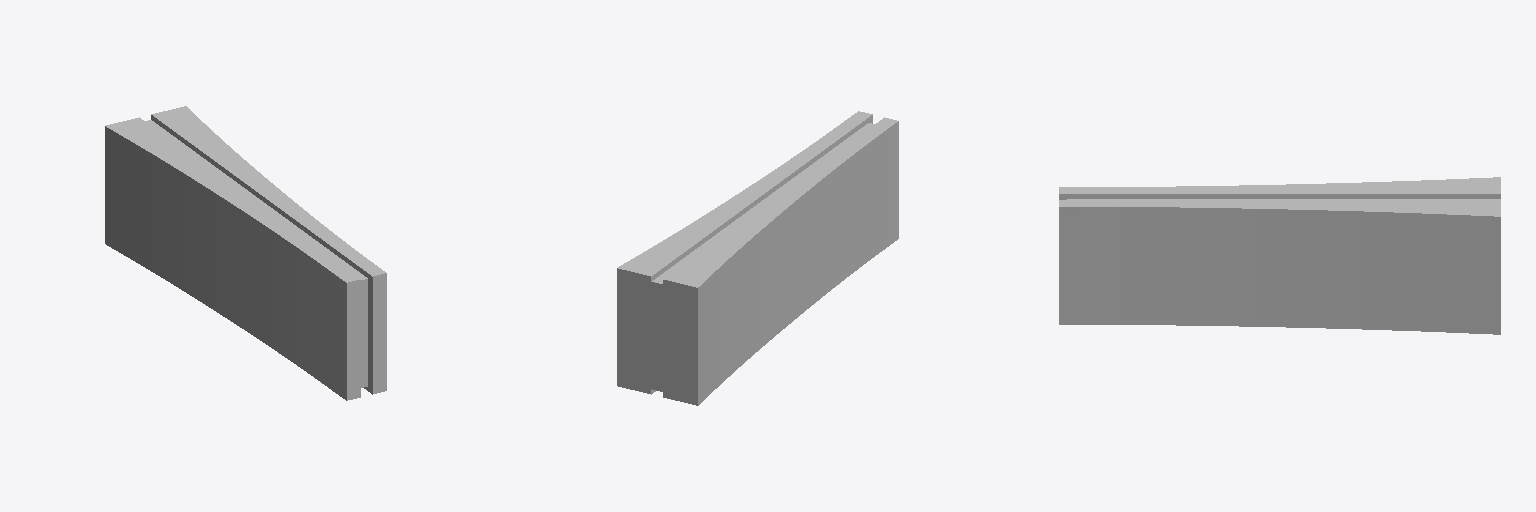
File: PlayBuilding_9.obj
3 renders of one model, left to right at view 1: azimuth 30°, elevation 25°; view 2: azimuth 150°, elevation 25°; view 3: azimuth 270°, elevation 25°, orthographic.
Parts seen in each view (by area): view 1: 立方体.010; view 2: 立方体.010; view 3: 立方体.010.
Part boxes in pixels (left/top/right/bottom): 立方体.010: left=105, top=106, right=386, bottom=400; 立方体.010: left=617, top=111, right=898, bottom=405; 立方体.010: left=1059, top=177, right=1500, bottom=334.
Bounding box in the file's own units: 30.32 × 42.03 × 143.